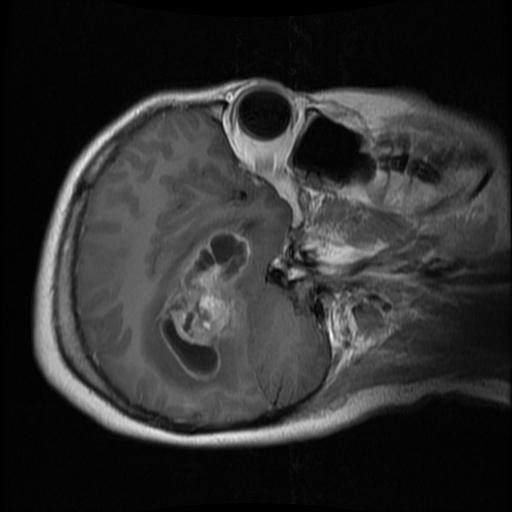glioma: (143, 225, 249, 396)
